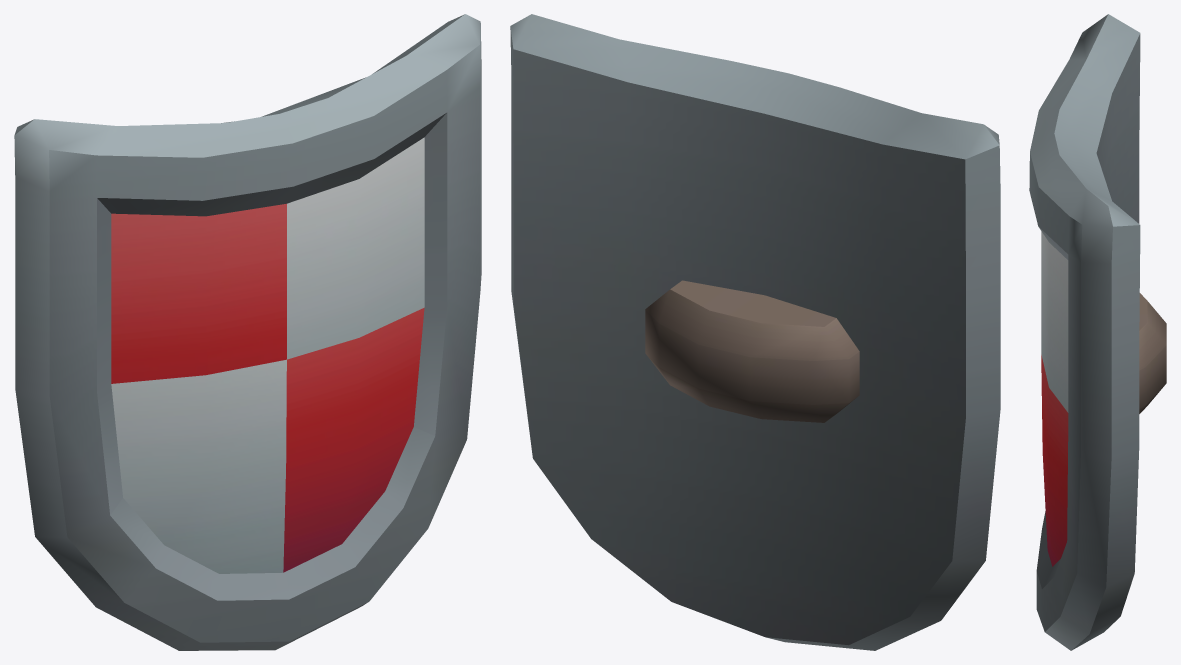
The model's file is shield-badge-color.glb.
The picture shows the model from 3 angles, left to right: view 1: azimuth 30°, elevation 25°; view 2: azimuth 150°, elevation 25°; view 3: azimuth 270°, elevation 25°; orthographic projection. The views are drawn at different scales.
Parts seen in each view (by area): view 1: shield_badge_color; view 2: shield_badge_color; view 3: shield_badge_color.
Part boxes in pixels (x1,y1,x2,y2): shield_badge_color: (14, 14, 481, 650); shield_badge_color: (510, 14, 1000, 650); shield_badge_color: (1029, 14, 1166, 650).
Bounding box in the file's own units: 0.8827 × 1.02 × 0.2458.
Materials: 1 (1 with a texture image).
